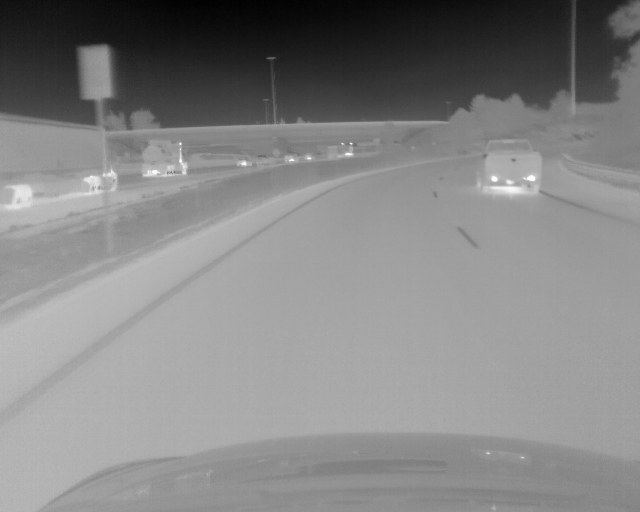car: (1, 111, 118, 210), (475, 139, 541, 196), (140, 140, 188, 177), (236, 157, 251, 168), (303, 153, 315, 160), (287, 154, 297, 161)
